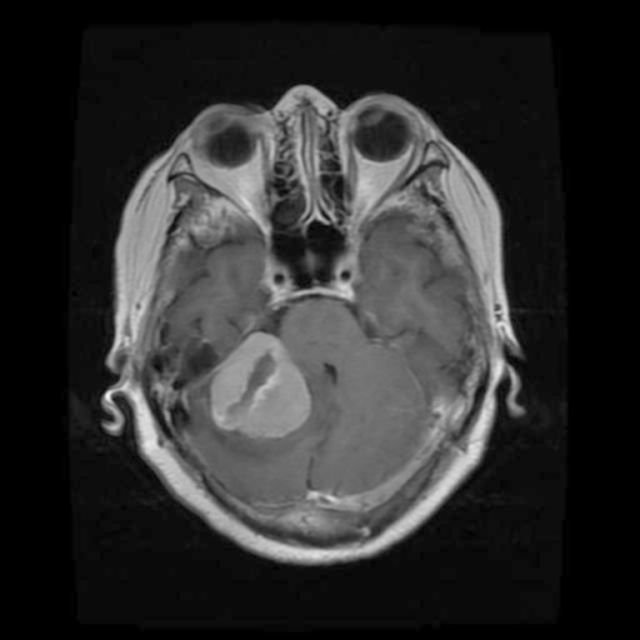meningioma tumor: (208, 323, 312, 442)
